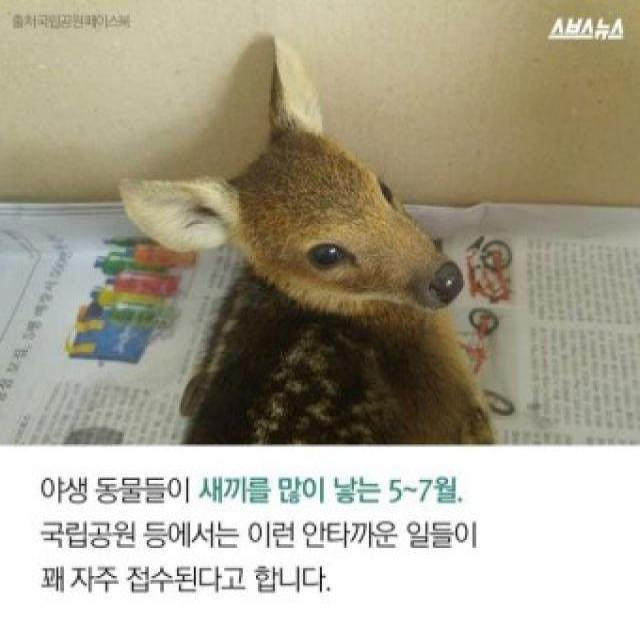deer: (106, 35, 539, 446)
